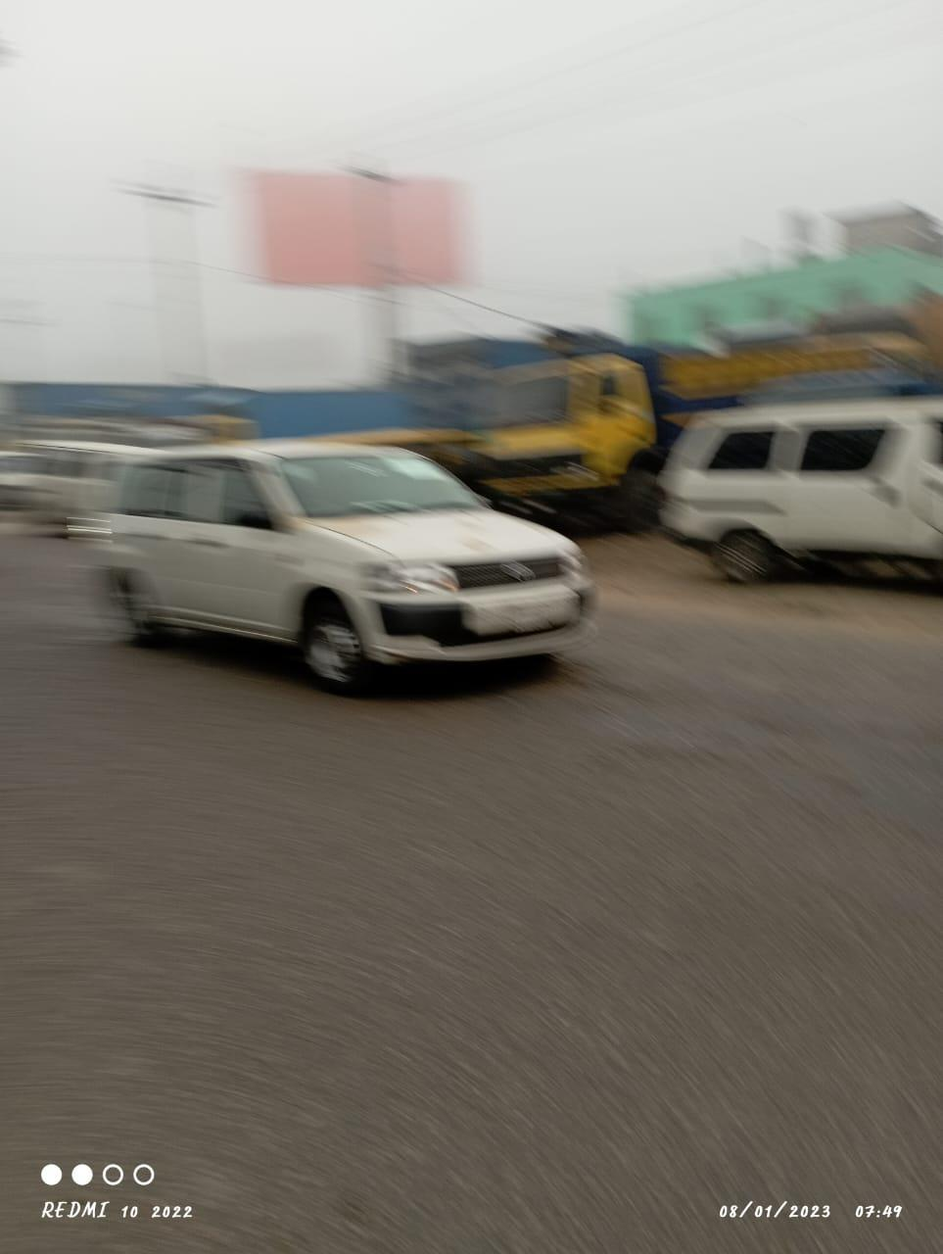Car: (91, 419, 597, 695), (662, 404, 943, 579)
Truck: (482, 346, 664, 520)
